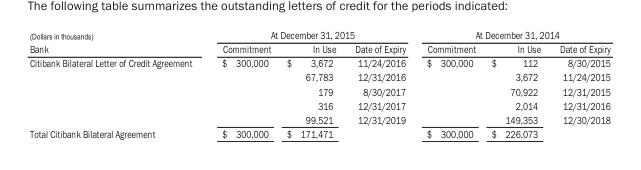table: (28, 28, 609, 138)
table column: (28, 28, 206, 138), (206, 28, 278, 138), (344, 28, 415, 138), (415, 28, 482, 138), (482, 28, 549, 138), (278, 28, 344, 138), (549, 28, 609, 138)
table column header: (28, 28, 609, 55)
table row: (28, 41, 609, 55), (28, 55, 609, 69), (28, 69, 609, 83), (28, 83, 609, 97), (28, 97, 609, 111), (28, 111, 609, 125), (28, 28, 609, 41), (28, 125, 609, 138)
table spanning cell: (28, 28, 206, 55), (206, 28, 415, 41), (415, 28, 609, 41)
